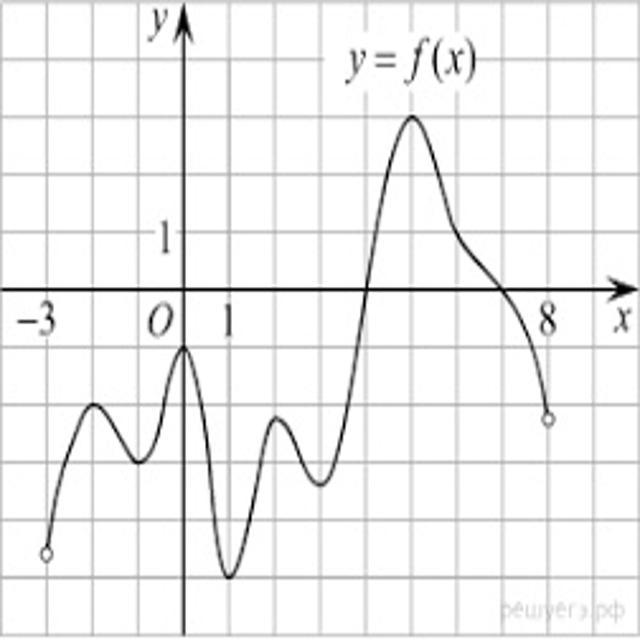axis: (177, 1, 192, 640), (0, 283, 640, 296)
line: (42, 110, 554, 582)
